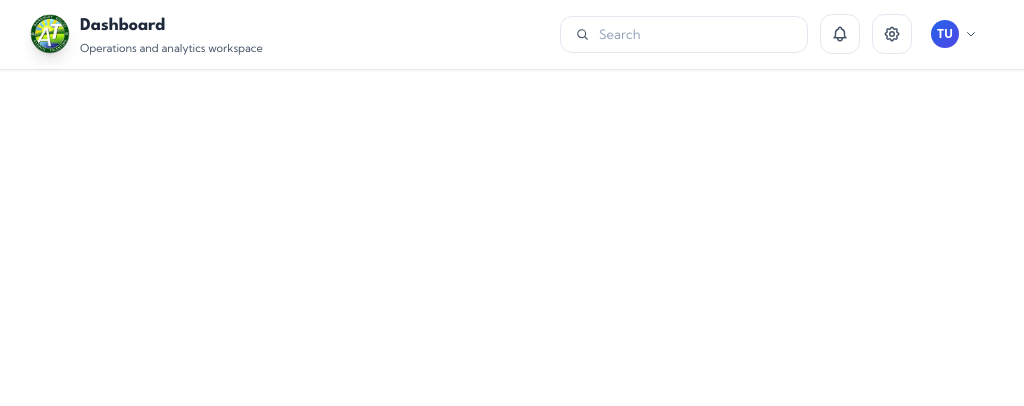
it: Header › notifications panel › closes the notification panel when bell is clicked again
Click the button titled "Notifications".
click(840, 34)  # box [820,14,860,54]
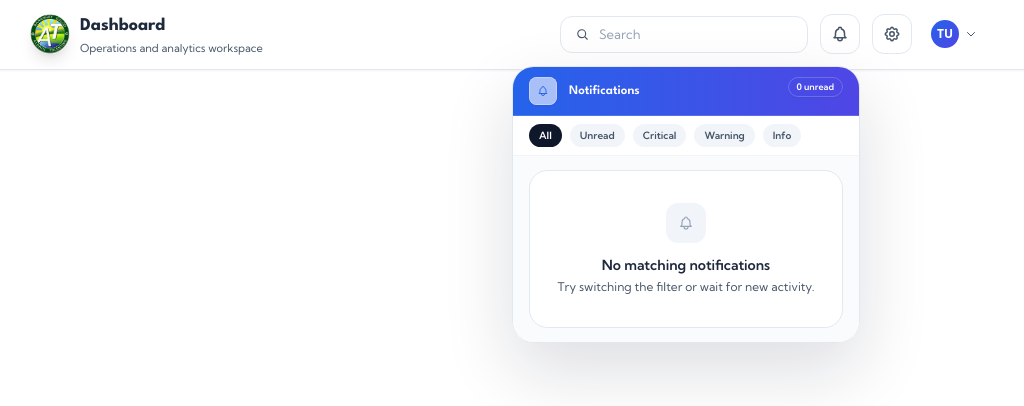
Result: the text "0 unread" is shown at [788,77,843,97]
Click the button titled "Notifications".
click(840, 34)  # box [820,14,860,54]
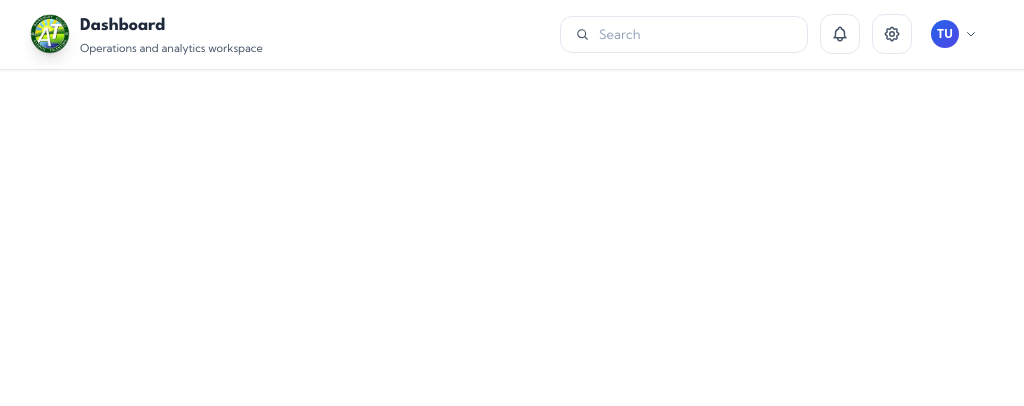
Result: the text "unread" is gone
